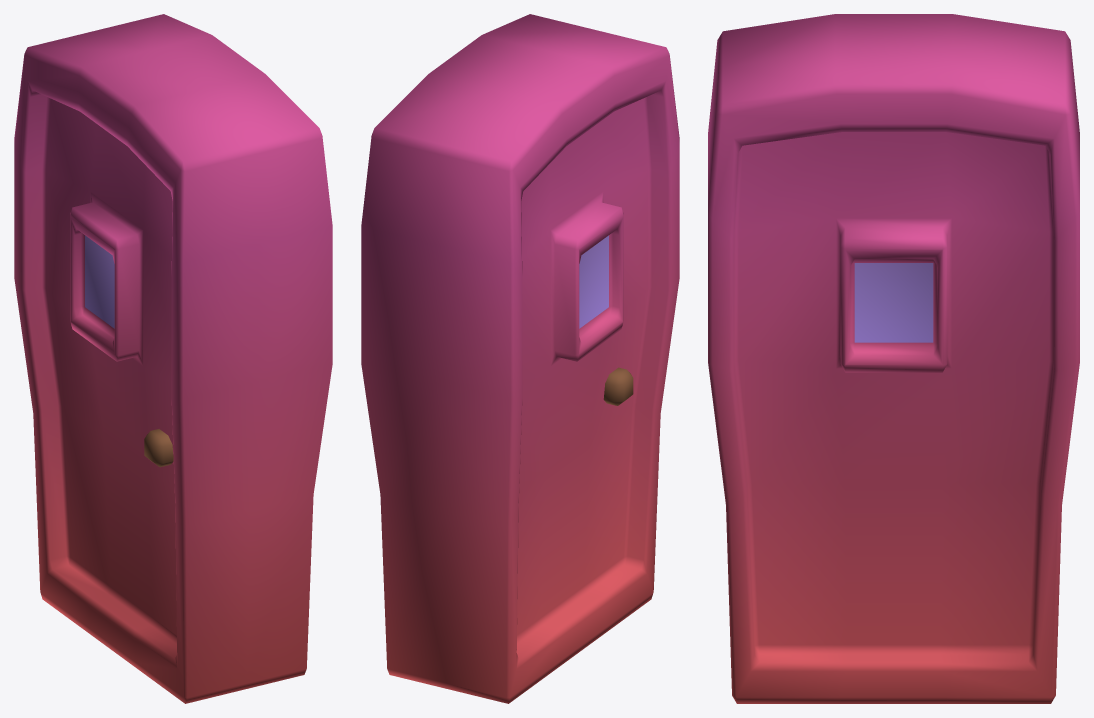
The model's file is Door_Pink.fbx.
The picture shows the model from 3 angles, left to right: view 1: azimuth 30°, elevation 25°; view 2: azimuth 150°, elevation 25°; view 3: azimuth 270°, elevation 25°; orthographic projection. The views are drawn at different scales.
Parts seen in each view (by area): view 1: Door_Pink; view 2: Door_Pink; view 3: Door_Pink.
Part boxes in pixels (x1,y1,x2,y2): Door_Pink: (14,14,332,703); Door_Pink: (361,14,679,703); Door_Pink: (708,14,1079,703).
Size of the model in its own units: 127 by 425 by 230.
